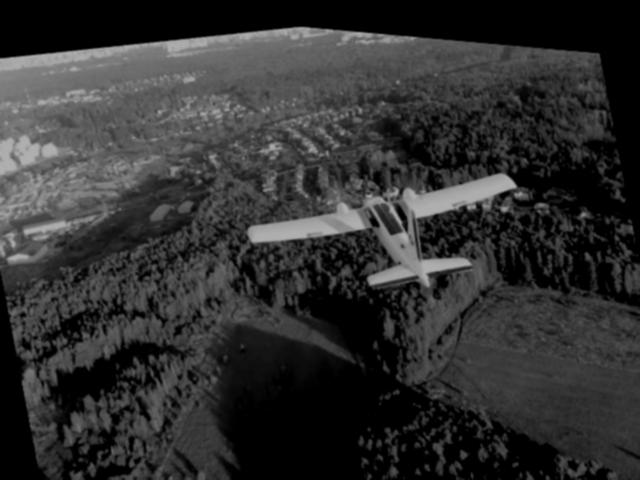hedef: (227, 132, 534, 325)
